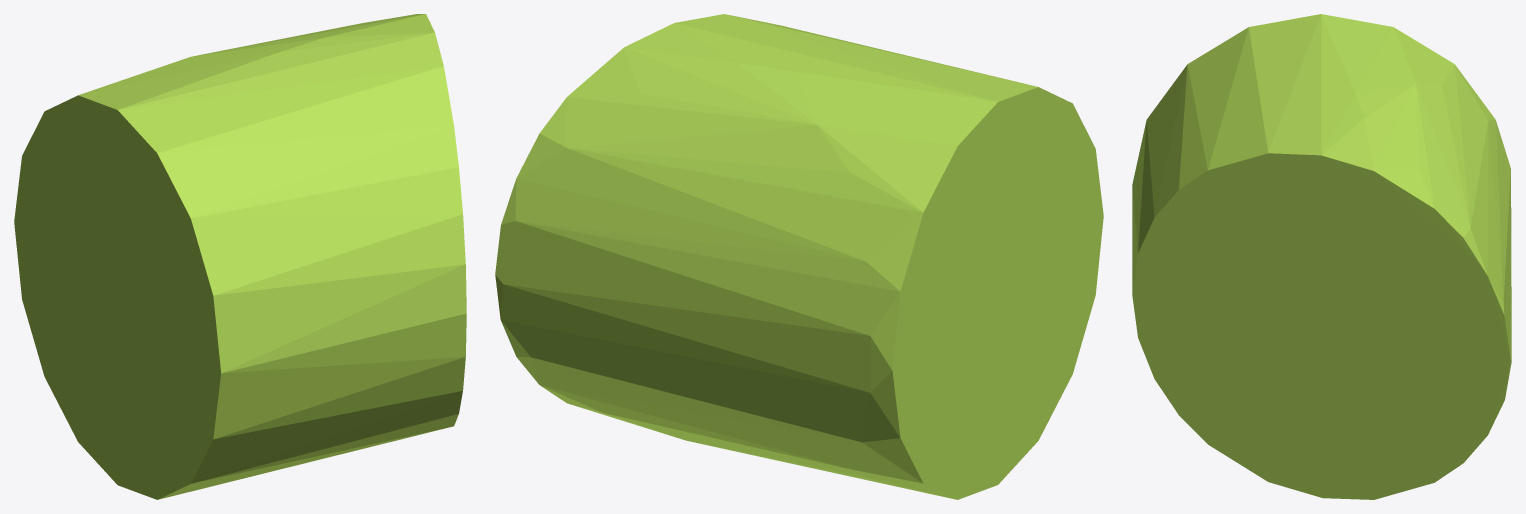
Rendered from industrial_06397_link_3_respondable_respondable_respondable_respondable_respondable_respondable_coll_4.dae.
3 renders of one model, left to right at view 1: azimuth 30°, elevation 25°; view 2: azimuth 150°, elevation 25°; view 3: azimuth 270°, elevation 25°, orthographic. The views are drawn at different scales.
Parts seen in each view (by area): view 1: node; view 2: node; view 3: node.
Boxes of the visible parts, bbox=[...] form: node: bbox=[14, 14, 466, 499]; node: bbox=[495, 14, 1103, 499]; node: bbox=[1132, 14, 1511, 499].
Bounding box in the file's own units: 0.0814 × 0.0751 × 0.0753.
